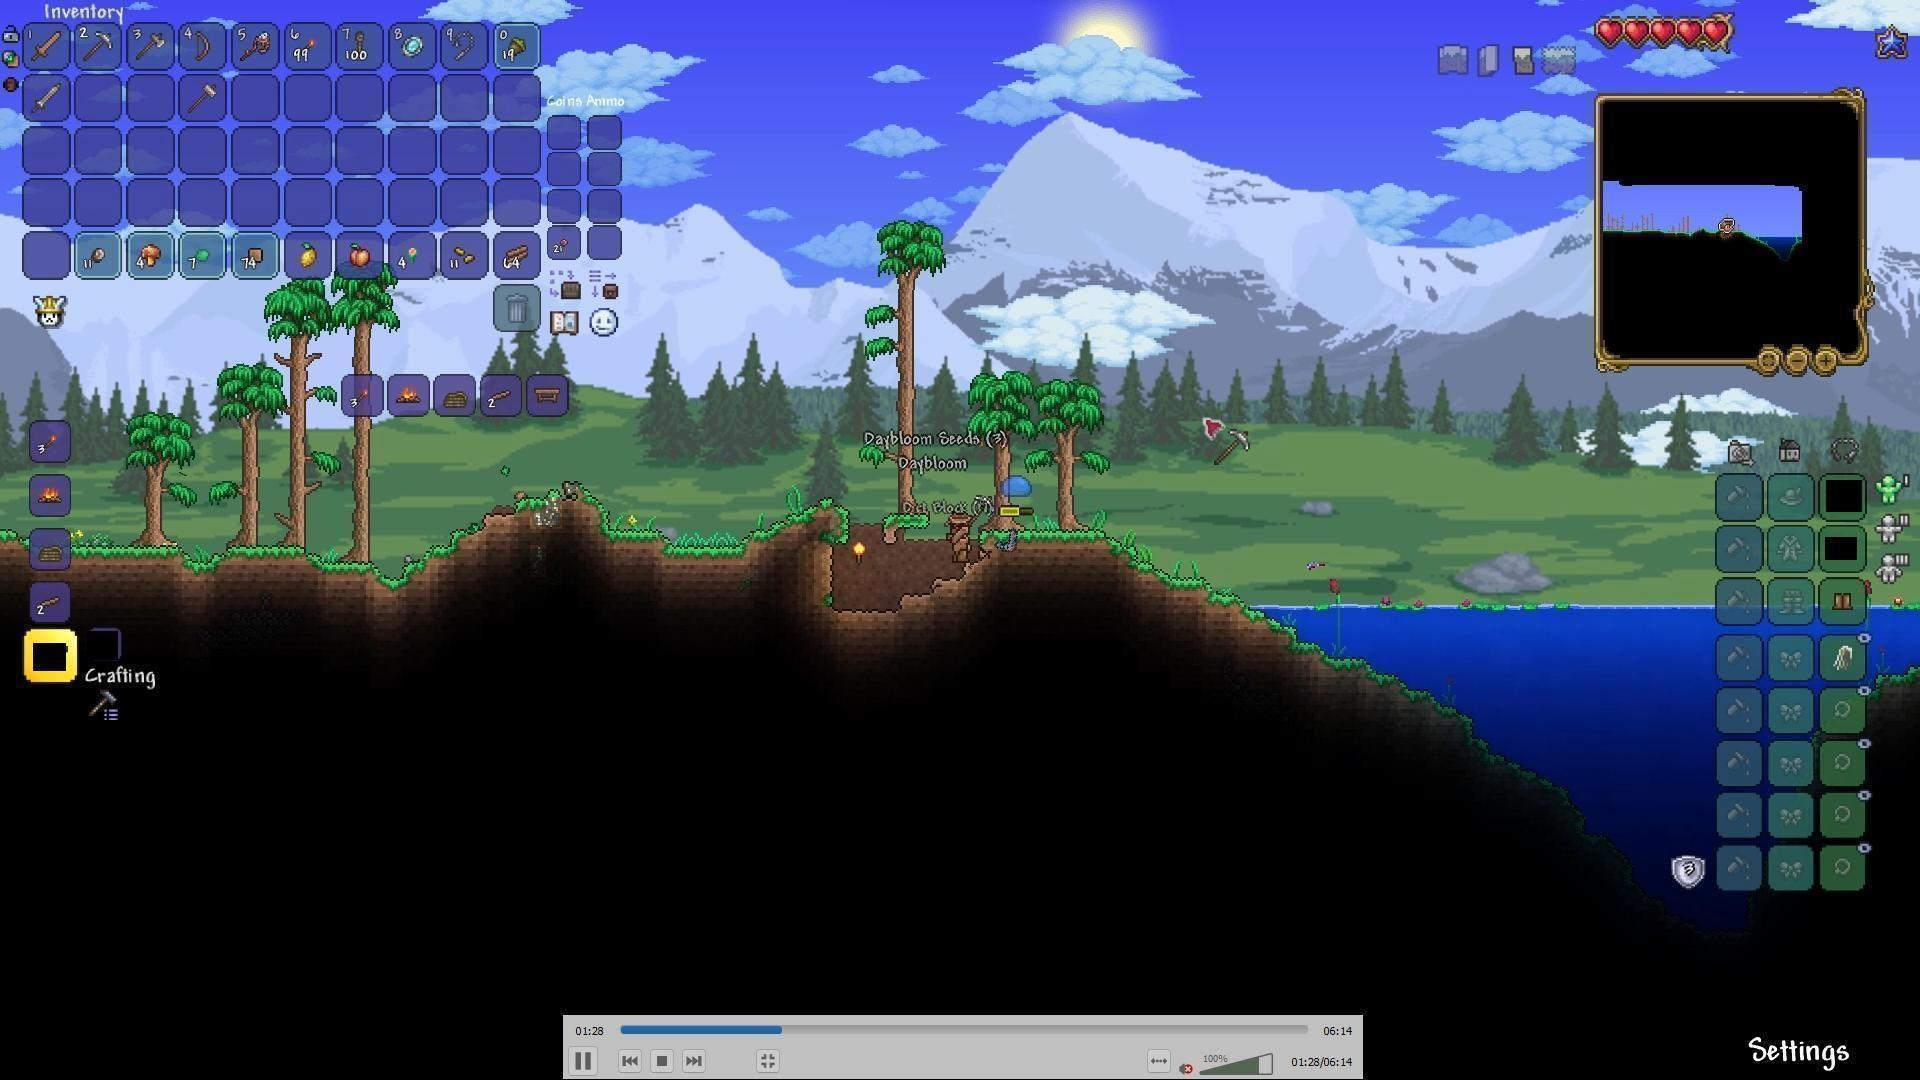legs: (1830, 588, 1855, 618)
slime: (1000, 469, 1035, 500)
wood: (530, 381, 563, 411), (498, 241, 529, 269)
